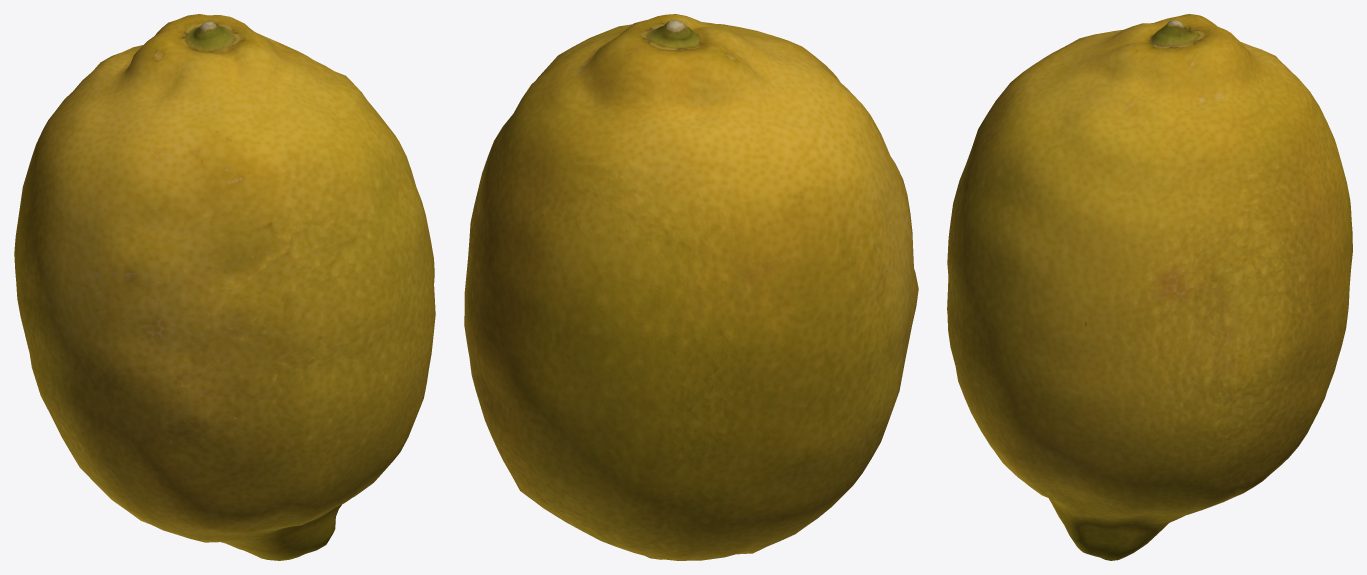
File: lemon_1k.gltf
3 views of the same model, side by side, from view 1: azimuth 30°, elevation 25°; view 2: azimuth 150°, elevation 25°; view 3: azimuth 270°, elevation 25° (orthographic). The views are drawn at different scales.
Visible parts, largest first — view 1: lemon; view 2: lemon; view 3: lemon.
Part boxes in pixels (<box>): lemon: <box>14,14,435,560</box>; lemon: <box>464,14,918,560</box>; lemon: <box>947,14,1352,560</box>.
Bounding box in the file's own units: 0.0687 × 0.0954 × 0.0683.
1 material, 1 textured.
